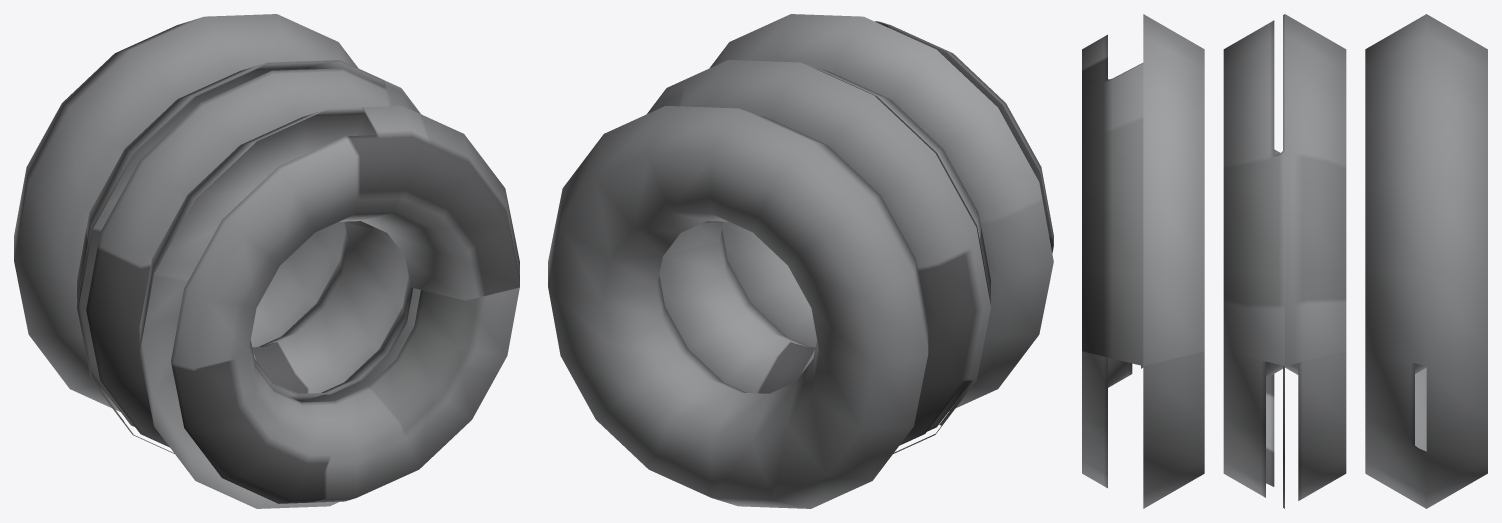
The picture shows the model from 3 angles, left to right: view 1: azimuth 30°, elevation 25°; view 2: azimuth 150°, elevation 25°; view 3: azimuth 270°, elevation 25°; orthographic projection. The views are drawn at different scales.
Size of the model in its own units: 0.9912 by 0.9912 by 0.8117.
